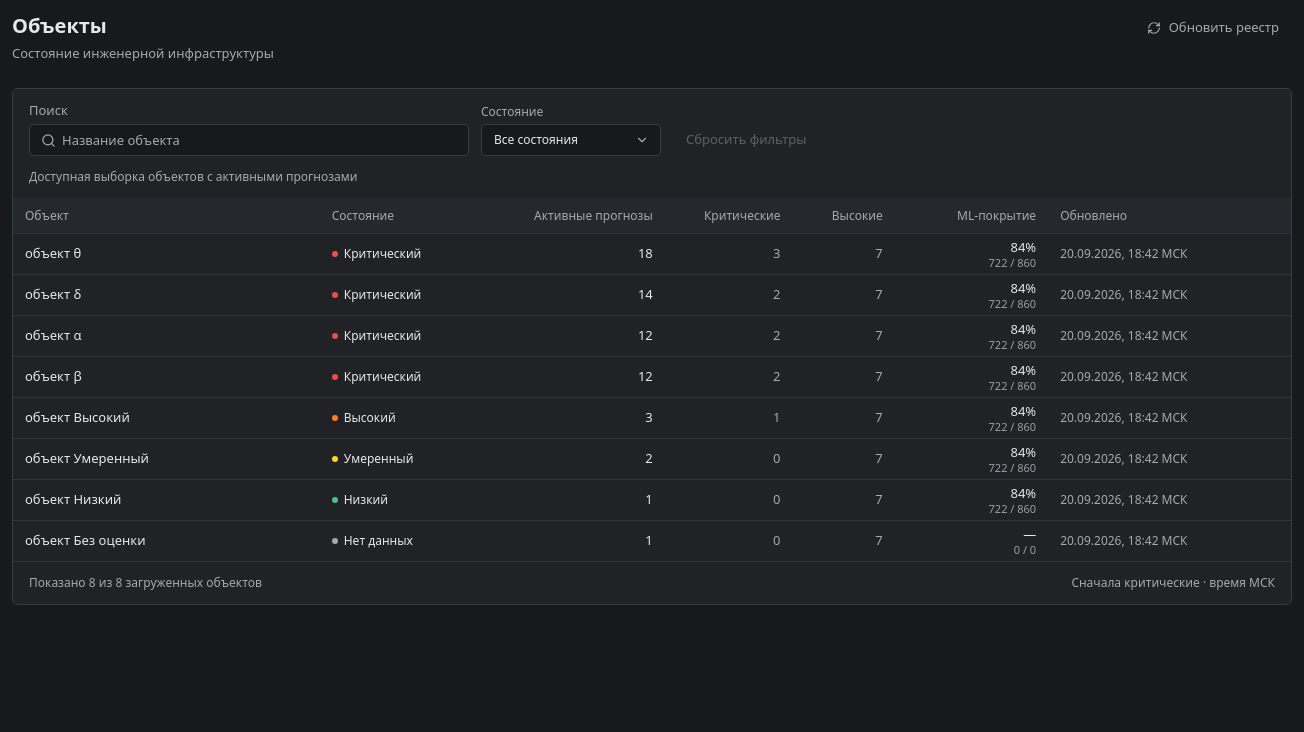
Test: Objects registry › filters critical risk
Select "Критические" in the dropdown labelled "Состояние" at (571, 140), box [481,124,661,156]
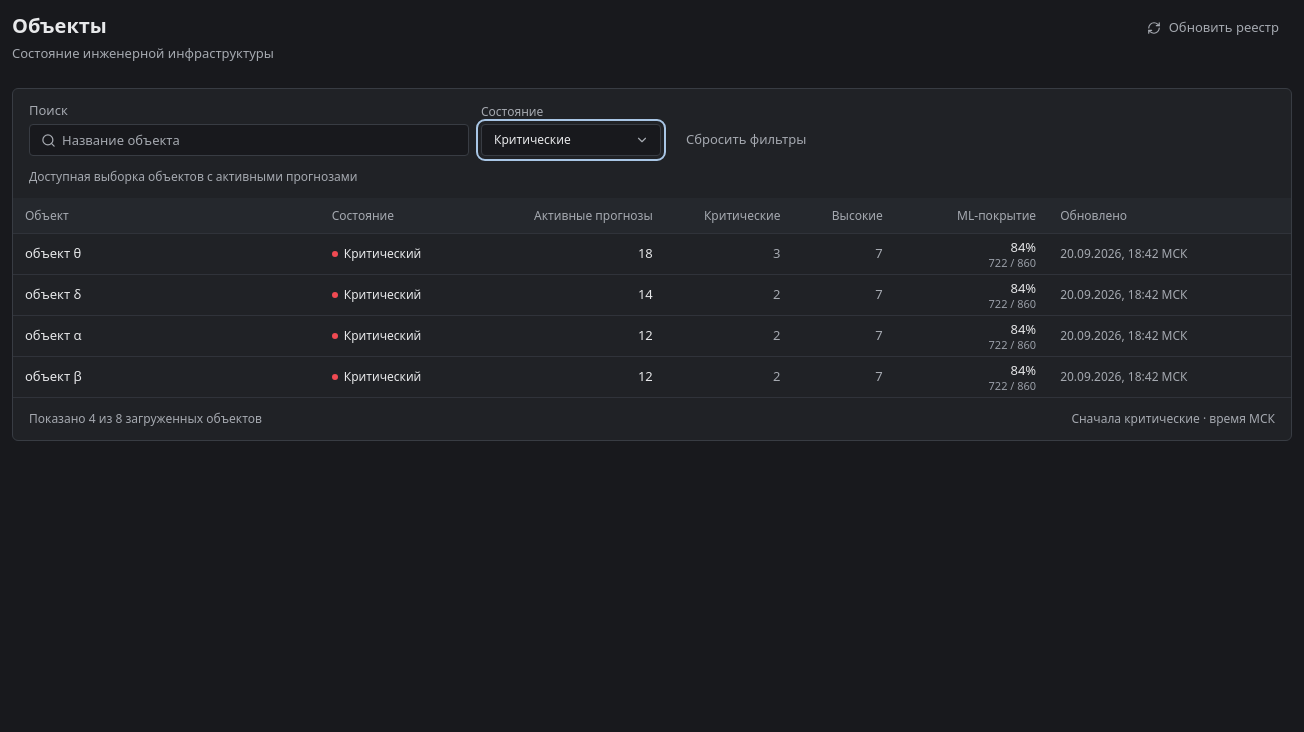
Now the number of rows named "Открыть объект:" is 4, box [13,234,1291,275]; [13,275,1291,316]; [13,316,1291,357]; [13,357,1291,397]
